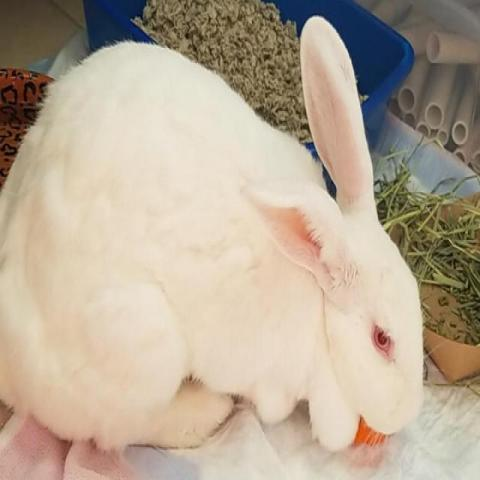small_animal: (1, 16, 428, 456)
